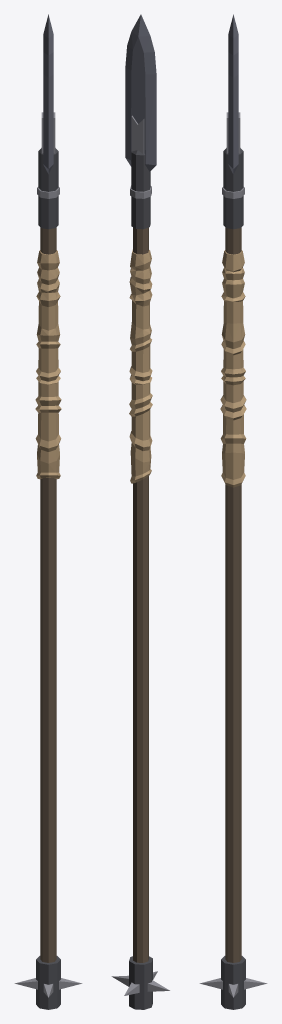
Rendered from Lanca_A02.fbx.
3 views of the same model, side by side, from view 1: azimuth 90°, elevation 25°; view 2: azimuth 150°, elevation 25°; view 3: azimuth 270°, elevation 25° (orthographic).
Parts seen in each view (by area): view 1: polearm_2; view 2: polearm_2; view 3: polearm_2.
Part boxes in pixels (x1,y1,x2,y2): polearm_2: [14, 14, 82, 1009]; polearm_2: [111, 14, 169, 1009]; polearm_2: [199, 14, 267, 1009].
Bounding box in the file's own units: 12.87 × 206 × 12.87.
